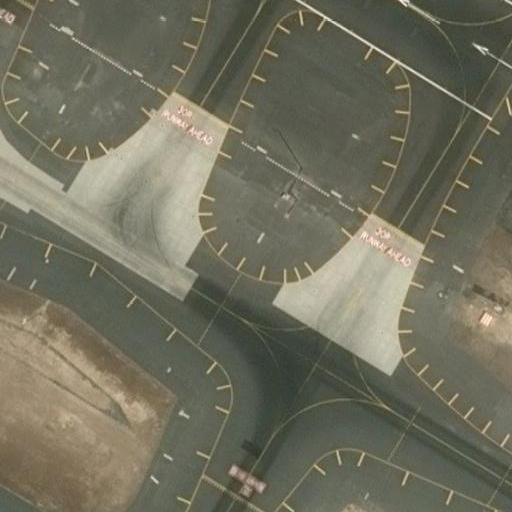Aircraft: (0, 0, 2, 143)
